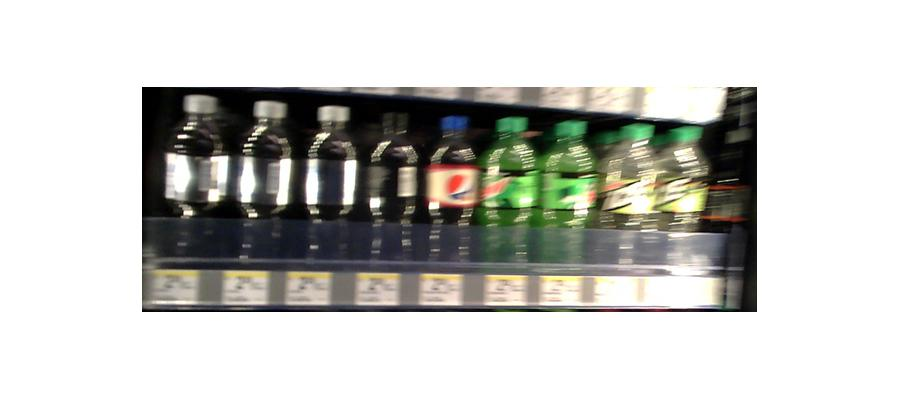bottle: (162, 92, 231, 269), (232, 97, 298, 269), (298, 108, 359, 272), (484, 110, 538, 270), (543, 117, 596, 270), (426, 128, 479, 268)
